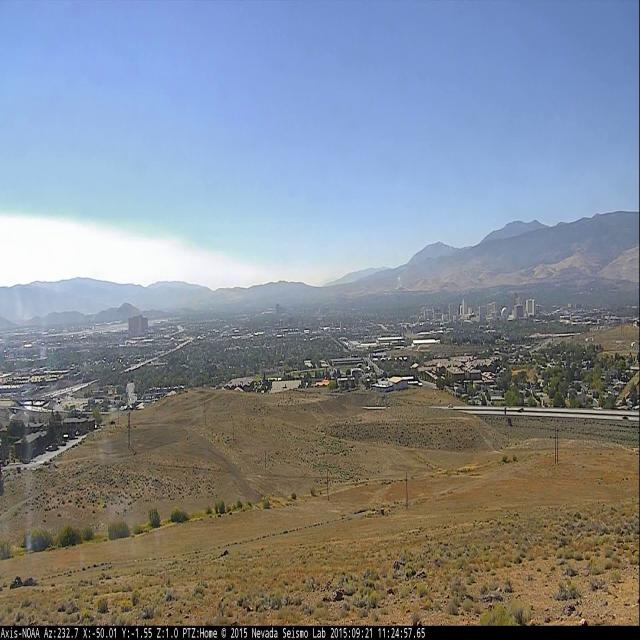smoke: (394, 272, 403, 290)
